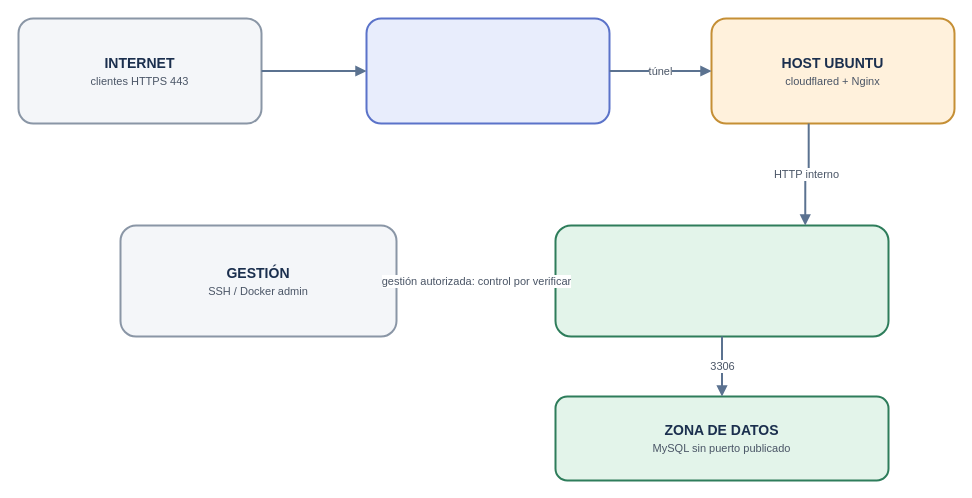
Image size: 972x498. Some labels were removed from this diagram. Each missing label, with the centre of its shape:
BORDE CLOUDFLARE DNS y acceso público: the point at 487,70
RED DOCKER Next.js + Django REST: the point at 721,280
